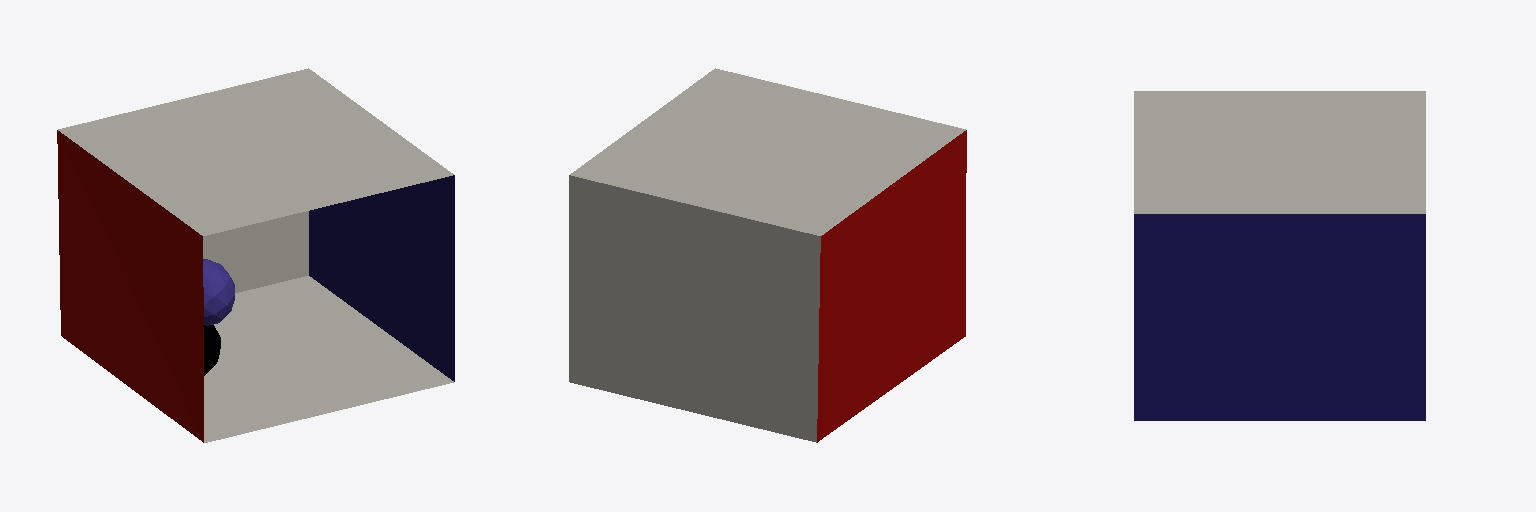
Rendered from CornellBox-Sphere-198.obj.
The picture shows the model from 3 angles: view 1: azimuth 30°, elevation 25°; view 2: azimuth 150°, elevation 25°; view 3: azimuth 270°, elevation 25°; orthographic projection.
Parts seen in each view (by area): view 1: ceiling, leftWall, floor, rightWall, backWall, leftSphere, rightSphere; view 2: backWall, ceiling, leftWall; view 3: rightWall, ceiling.
Part boxes in pixels (x1,y1,x2,y2): ceiling: (58,68,453,235); leftWall: (57,130,203,442); floor: (204,276,453,442); rightWall: (309,175,454,381); backWall: (203,211,308,292); leftSphere: (203,259,234,325); rightSphere: (204,325,220,375); backWall: (569,175,820,442); ceiling: (570,68,965,235); leftWall: (817,130,966,442); rightWall: (1134,214,1425,420); ceiling: (1134,91,1425,213).
Size of the model in its own units: 2.02 by 1.59 by 2.03.